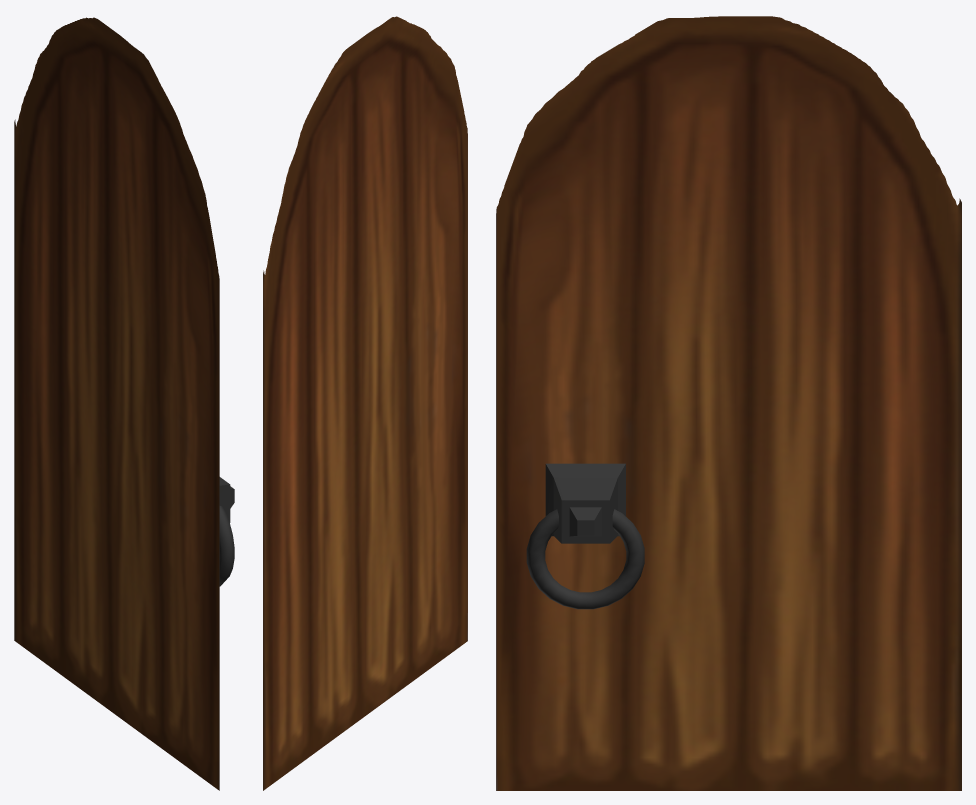
File: Door3.fbx
The picture shows the model from 3 angles, left to right: view 1: azimuth 30°, elevation 25°; view 2: azimuth 150°, elevation 25°; view 3: azimuth 270°, elevation 25°; orthographic projection. The views are drawn at different scales.
Parts seen in each view (by area): view 1: DoorWall2.001; view 2: DoorWall2.001; view 3: DoorWall2.001.
Part boxes in pixels (box(x1,y1,x2,y2)): DoorWall2.001: box(14, 17, 234, 790); DoorWall2.001: box(263, 16, 467, 790); DoorWall2.001: box(496, 16, 961, 790).
Bounding box in the file's own units: 8.68 × 111 × 60.27.
